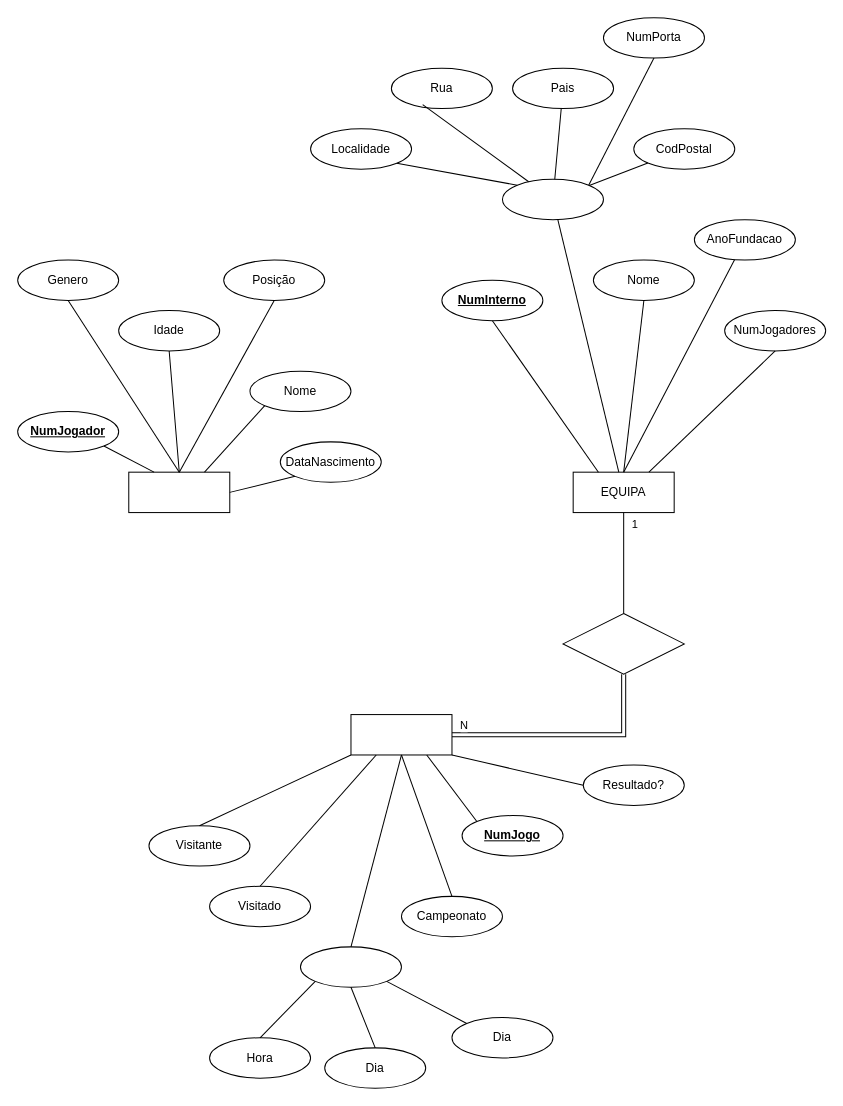
Image size: 843x1106. Some labels were removed from this diagram. The shapes that lost their labels are listed below. From the top down, each one's box as (x1, y1, x2, y2) in pixels, then its label:
(501, 178, 603, 220): Morada
(128, 471, 230, 513): JOGADOR
(562, 613, 684, 674): JOGOU
(350, 714, 452, 755): JOGO
(299, 946, 401, 987): Data
